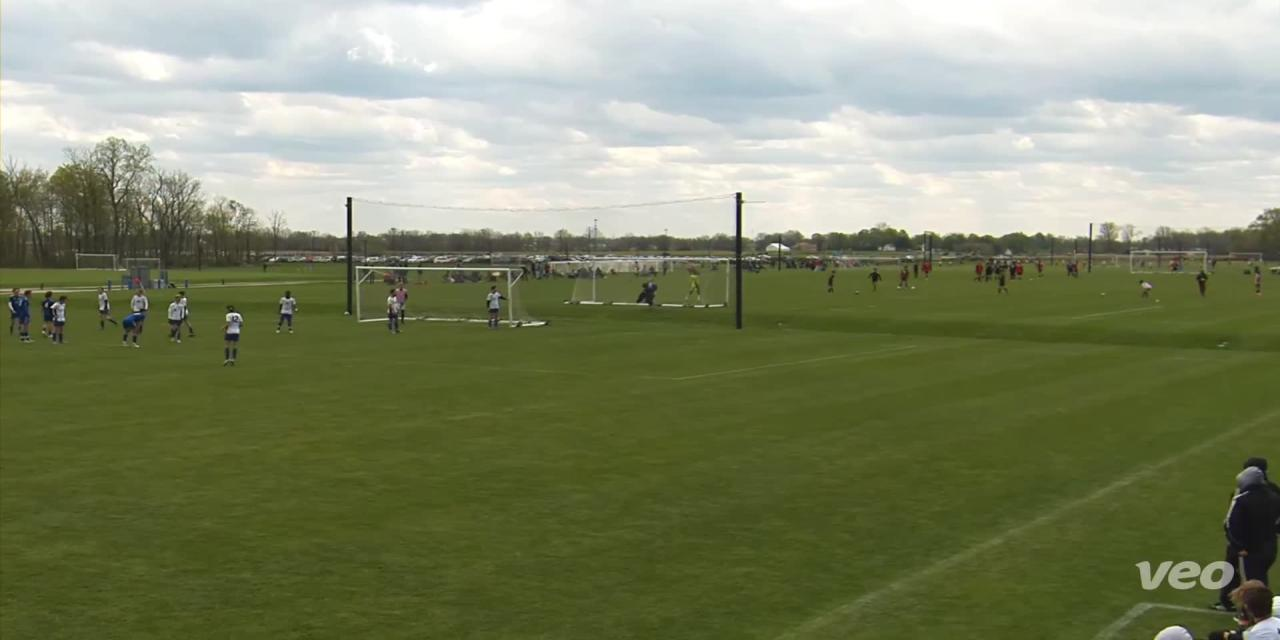goal: (345, 260, 554, 332)
